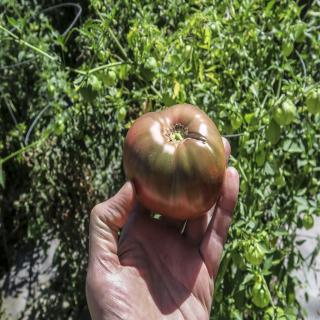Tomato: (121, 100, 228, 220)
